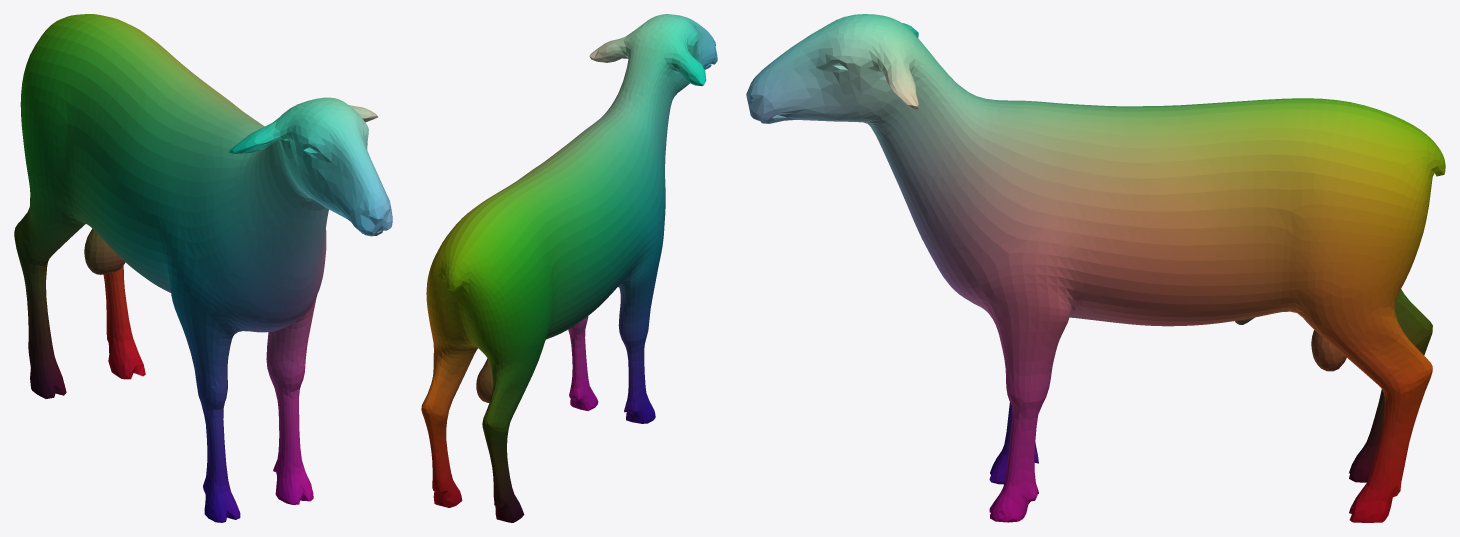
The model's file is sheep_vis.obj.
3 views of the same model, side by side, from view 1: azimuth 30°, elevation 25°; view 2: azimuth 150°, elevation 25°; view 3: azimuth 270°, elevation 25° (orthographic). The views are drawn at different scales.
Bounding box in the file's own units: 0.4511 × 1.33 × 1.77.
